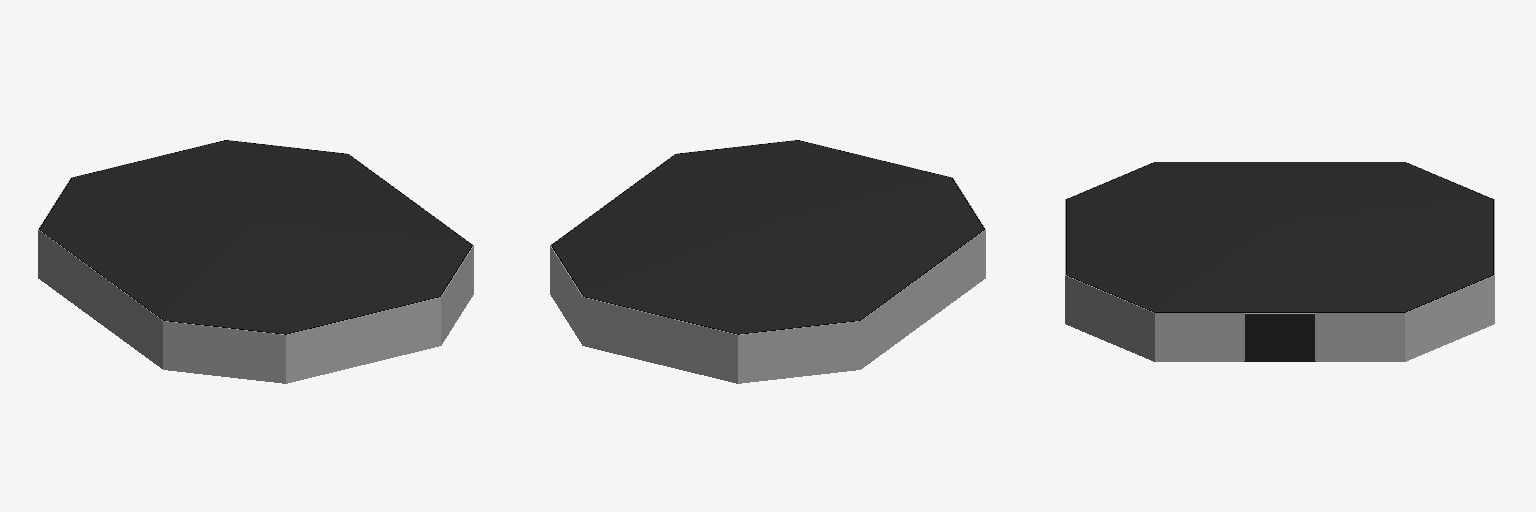
Rendered from Gallery.obj.
3 renders of one model, left to right at view 1: azimuth 30°, elevation 25°; view 2: azimuth 150°, elevation 25°; view 3: azimuth 270°, elevation 25°, orthographic.
Visible parts, largest first — view 1: Gallery_Gallery_Roof, Gallery_Gallery_Walls; view 2: Gallery_Gallery_Roof, Gallery_Gallery_Walls; view 3: Gallery_Gallery_Roof, Gallery_Gallery_Walls, Gallery_Gallery_Floor, Gallery_Gallery_EdgeLight.
Part boxes in pixels (left/top/right/bottom): Gallery_Gallery_Roof: left=40, top=140, right=471, bottom=333; Gallery_Gallery_Walls: left=38, top=140, right=473, bottom=383; Gallery_Gallery_Roof: left=552, top=140, right=983, bottom=333; Gallery_Gallery_Walls: left=550, top=140, right=985, bottom=383; Gallery_Gallery_Roof: left=1067, top=162, right=1492, bottom=311; Gallery_Gallery_Walls: left=1065, top=162, right=1494, bottom=361; Gallery_Gallery_Floor: left=1244, top=314, right=1315, bottom=361; Gallery_Gallery_EdgeLight: left=1066, top=162, right=1493, bottom=312.
Size of the model in its own units: 20 by 3.71 by 24.